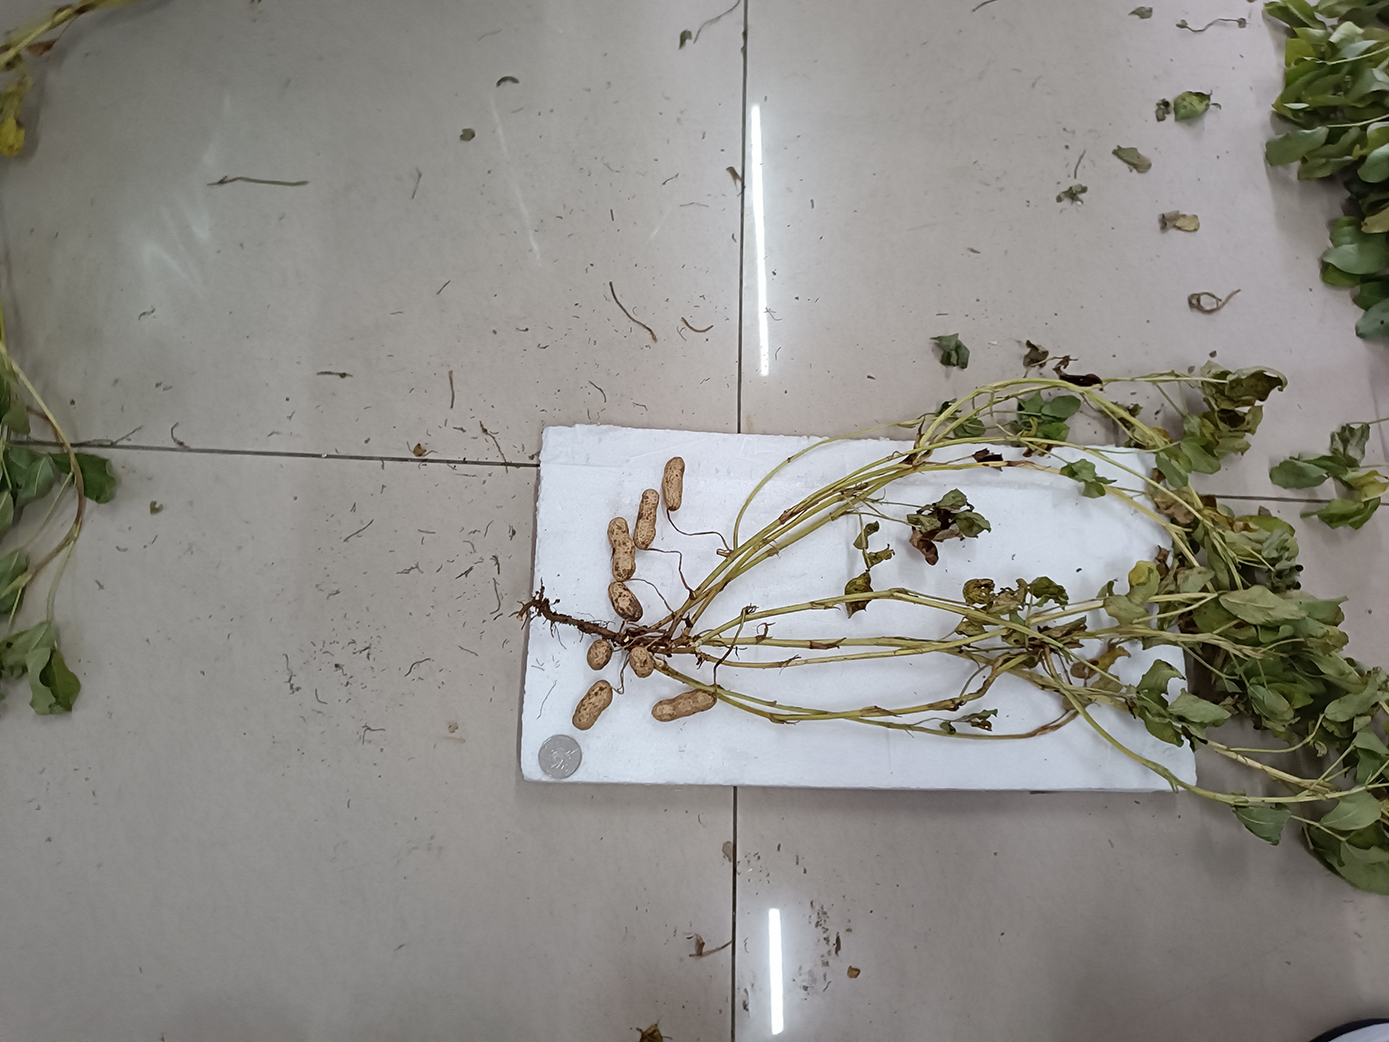h: (572, 678, 614, 730), (652, 688, 717, 721), (606, 517, 637, 581), (633, 488, 660, 549), (606, 580, 644, 620), (662, 456, 685, 511), (628, 646, 657, 678), (588, 640, 613, 670)
